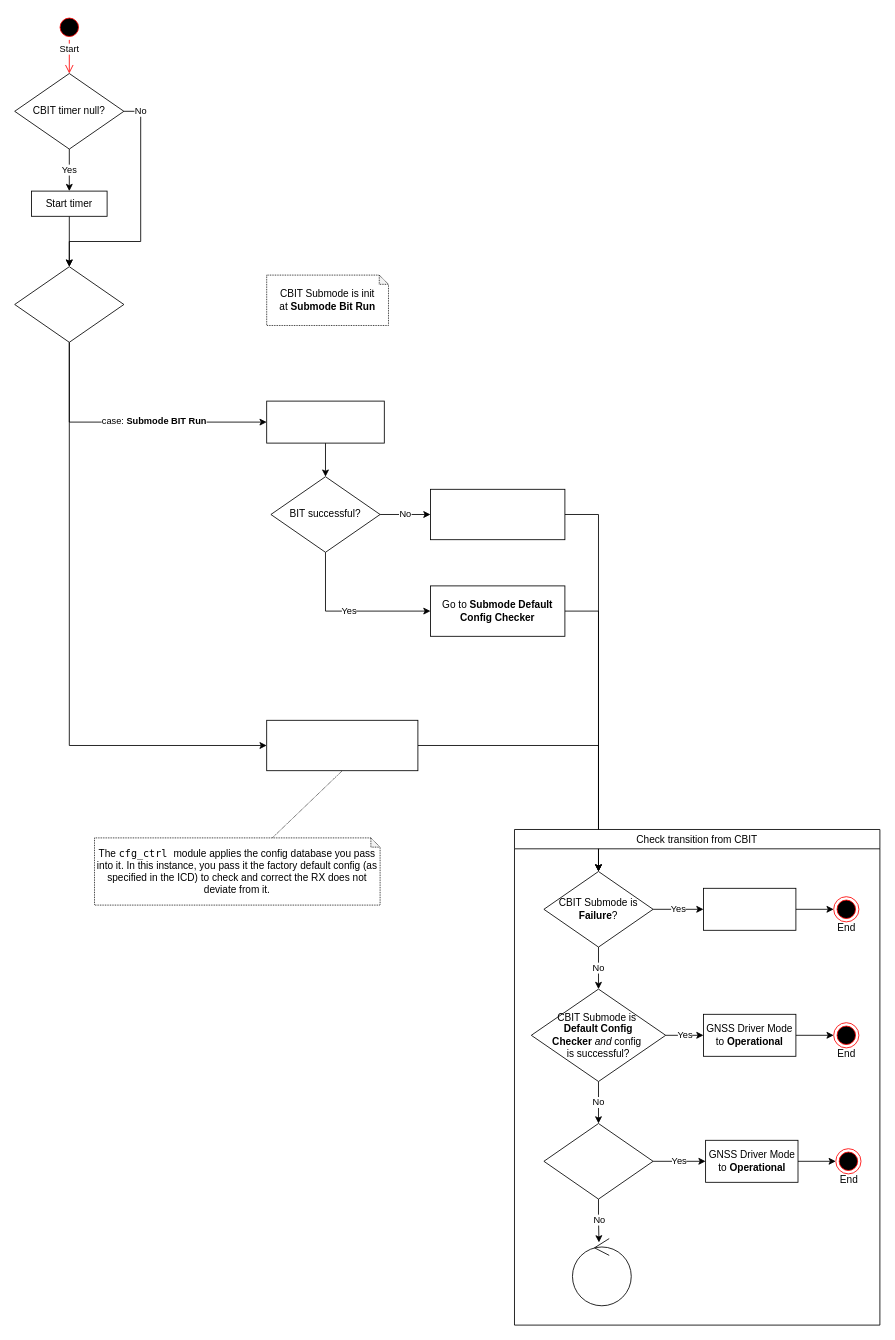
The diagram is 895 pixels wide and 1340 high, and some of its shapes have lost their labels. Each missing label, with the box of its shape:
GNSS Driver Mode to Failure: (703, 887, 796, 930)
Go to Submode Failure: (430, 488, 565, 540)
Run Built-In Test (BIT): (266, 400, 384, 443)
Run CBIT on next call to Run(): (572, 1238, 631, 1306)
Run the cfg_ctrl module to check that default config stays in the RX: (266, 719, 418, 771)
Take action depending on CBIT Submode: (14, 266, 124, 342)
Time since CBIT start > Stay time?: (543, 1123, 653, 1199)
